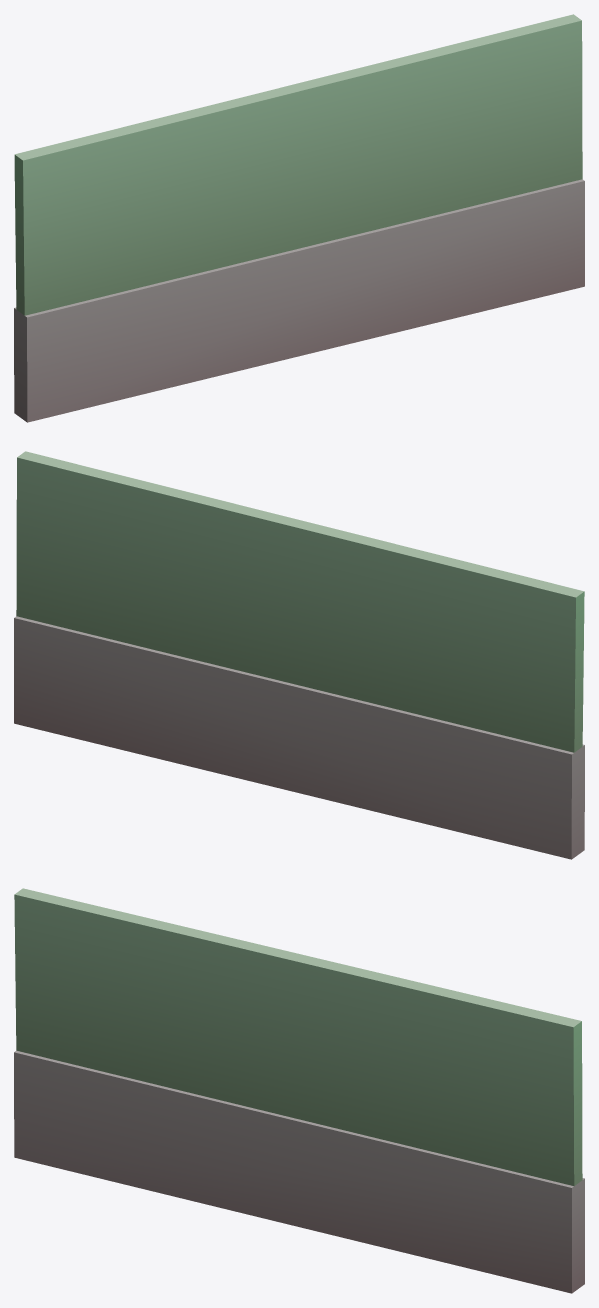
File: Prop_wall_green.glb
The picture shows the model from 3 angles, top to bottom: view 1: azimuth 30°, elevation 25°; view 2: azimuth 150°, elevation 25°; view 3: azimuth 330°, elevation 25°; orthographic projection.
Visible parts, largest first — view 1: Prop_wall_green; view 2: Prop_wall_green; view 3: Prop_wall_green.
Part boxes in pixels (box(x1,y1,x2,y2)): Prop_wall_green: box(14, 14, 584, 422); Prop_wall_green: box(14, 451, 584, 859); Prop_wall_green: box(14, 888, 584, 1293).
Bounding box in the file's own units: 0.964 × 0.4354 × 0.039.
